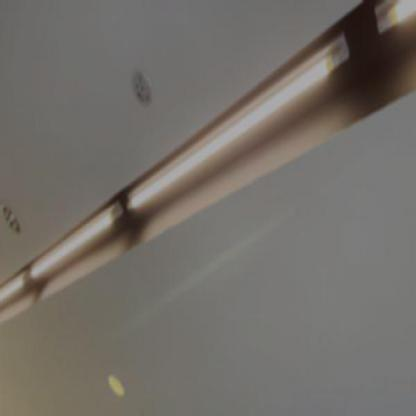light_on: (121, 26, 360, 220), (28, 164, 120, 291), (370, 0, 416, 43), (0, 265, 31, 310)
